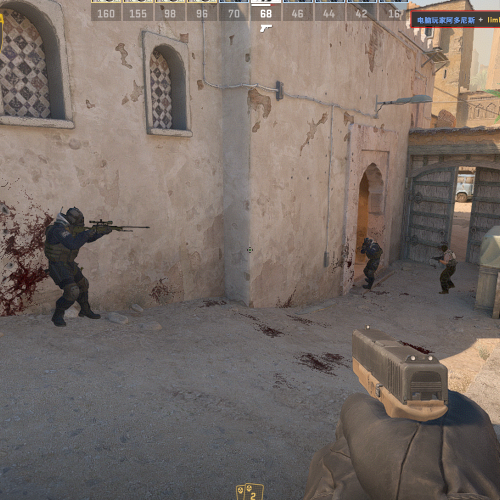ct_body: (43, 205, 103, 328), (361, 236, 384, 291)
ct_head: (62, 206, 85, 232), (362, 237, 371, 247)
t_body: (435, 244, 458, 295)
t_head: (441, 244, 449, 253)
